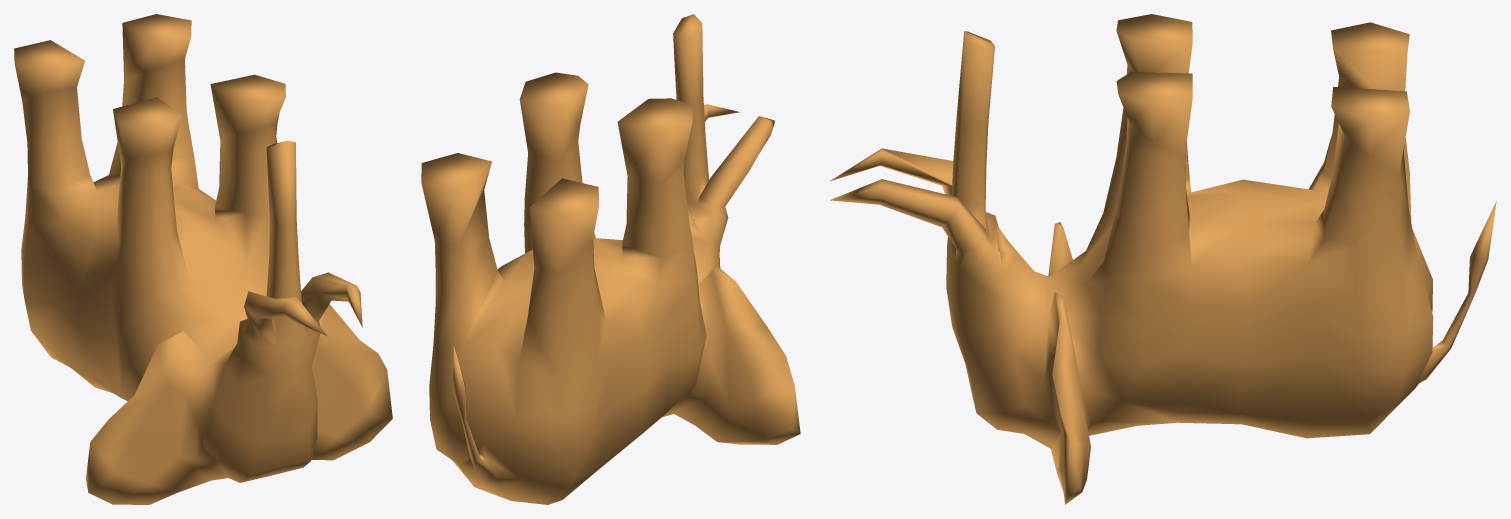
File: elephant1_6.dae
3 renders of one model, left to right at view 1: azimuth 30°, elevation 25°; view 2: azimuth 150°, elevation 25°; view 3: azimuth 270°, elevation 25°, orthographic. The views are drawn at different scales.
Parts seen in each view (by area): view 1: elephant1_019; view 2: elephant1_019; view 3: elephant1_019.
Boxes of the visible parts, left/top/right/bottom form: elephant1_019: left=14, top=14, right=392, bottom=504; elephant1_019: left=421, top=14, right=800, bottom=504; elephant1_019: left=830, top=14, right=1496, bottom=504.
Bounding box in the file's own units: 0.2121 × 0.3642 × 0.2496.
